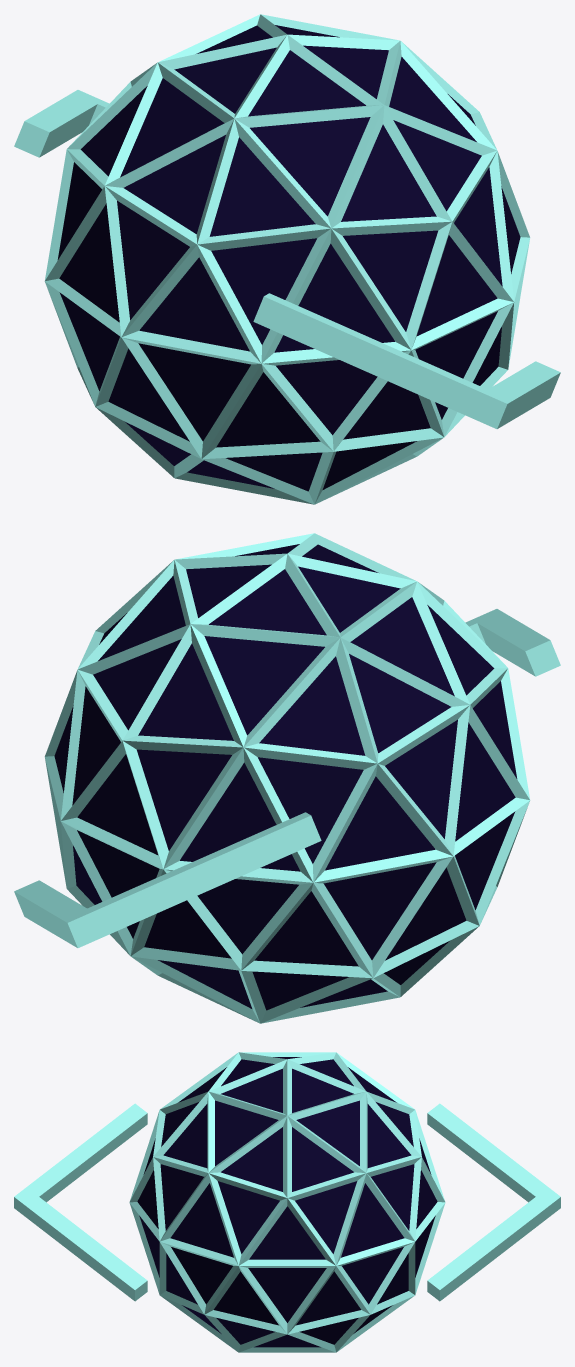
The model's file is web-dev-planet.glb.
The picture shows the model from 3 angles, top to bottom: view 1: azimuth 30°, elevation 25°; view 2: azimuth 150°, elevation 25°; view 3: azimuth 270°, elevation 25°; orthographic projection. The views are drawn at different scales.
Visible parts, largest first — view 1: Icosphere.001, Icosphere, tags; view 2: Icosphere.001, Icosphere, tags; view 3: Icosphere.001, Icosphere, tags.
Boxes of the visible parts, bbox=[...] form: Icosphere.001: bbox=[57, 25, 520, 491]; Icosphere: bbox=[44, 14, 530, 504]; tags: bbox=[14, 90, 560, 428]; Icosphere.001: bbox=[54, 544, 517, 1010]; Icosphere: bbox=[44, 533, 530, 1023]; tags: bbox=[14, 609, 560, 947]; Icosphere.001: bbox=[137, 1057, 437, 1347]; Icosphere: bbox=[129, 1052, 445, 1352]; tags: bbox=[14, 1103, 560, 1301].
Size of the model in its own units: 1.96 by 2.06 by 3.56.
